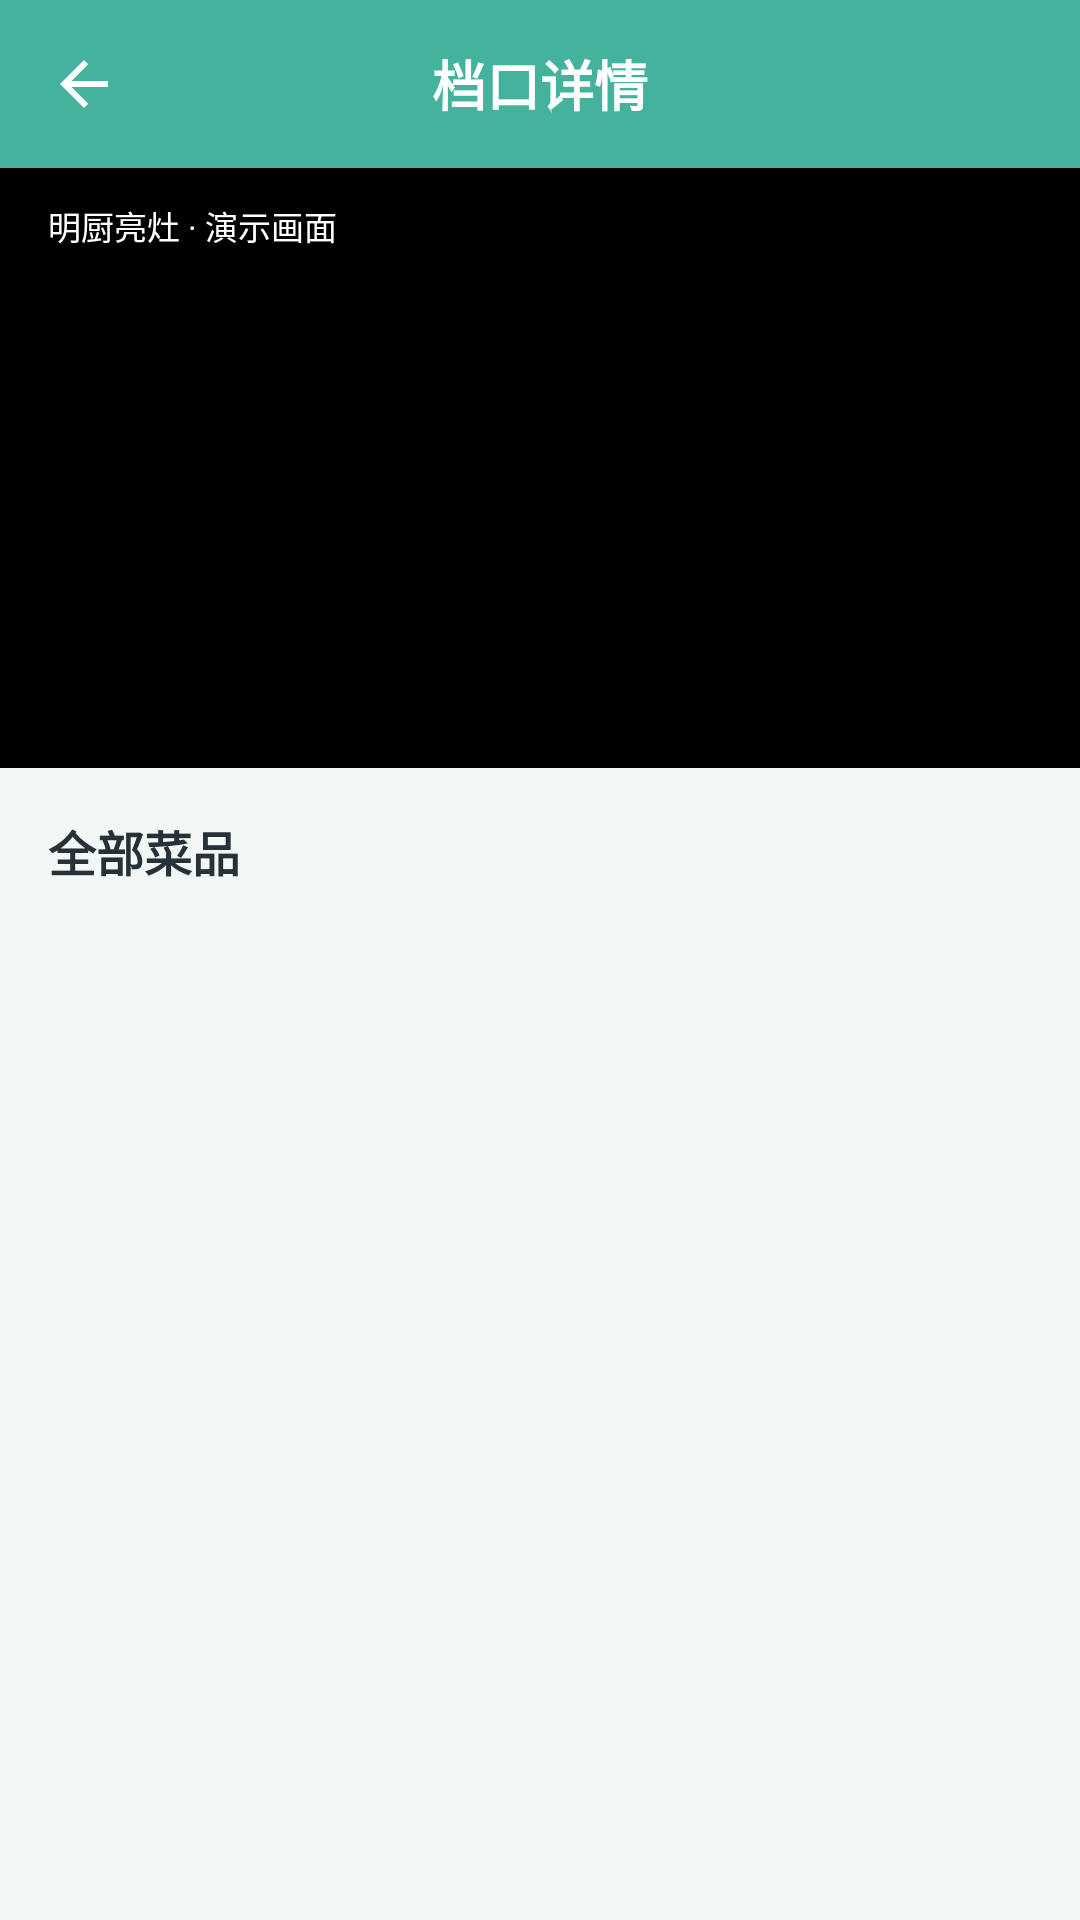

Icon click points for this 1080x1920 phone screenshot, format (x=x, y=y):
返回: (x=84, y=84)
